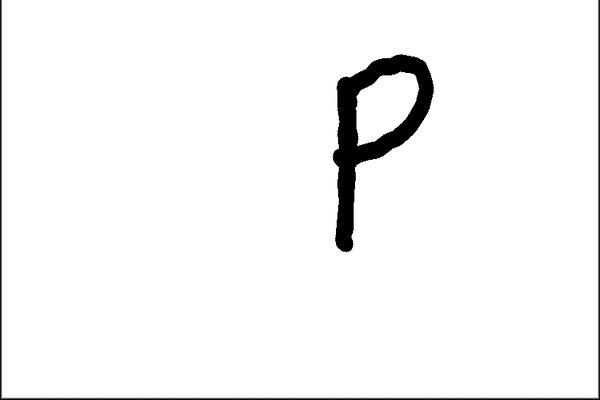P: (321, 43, 441, 269)
